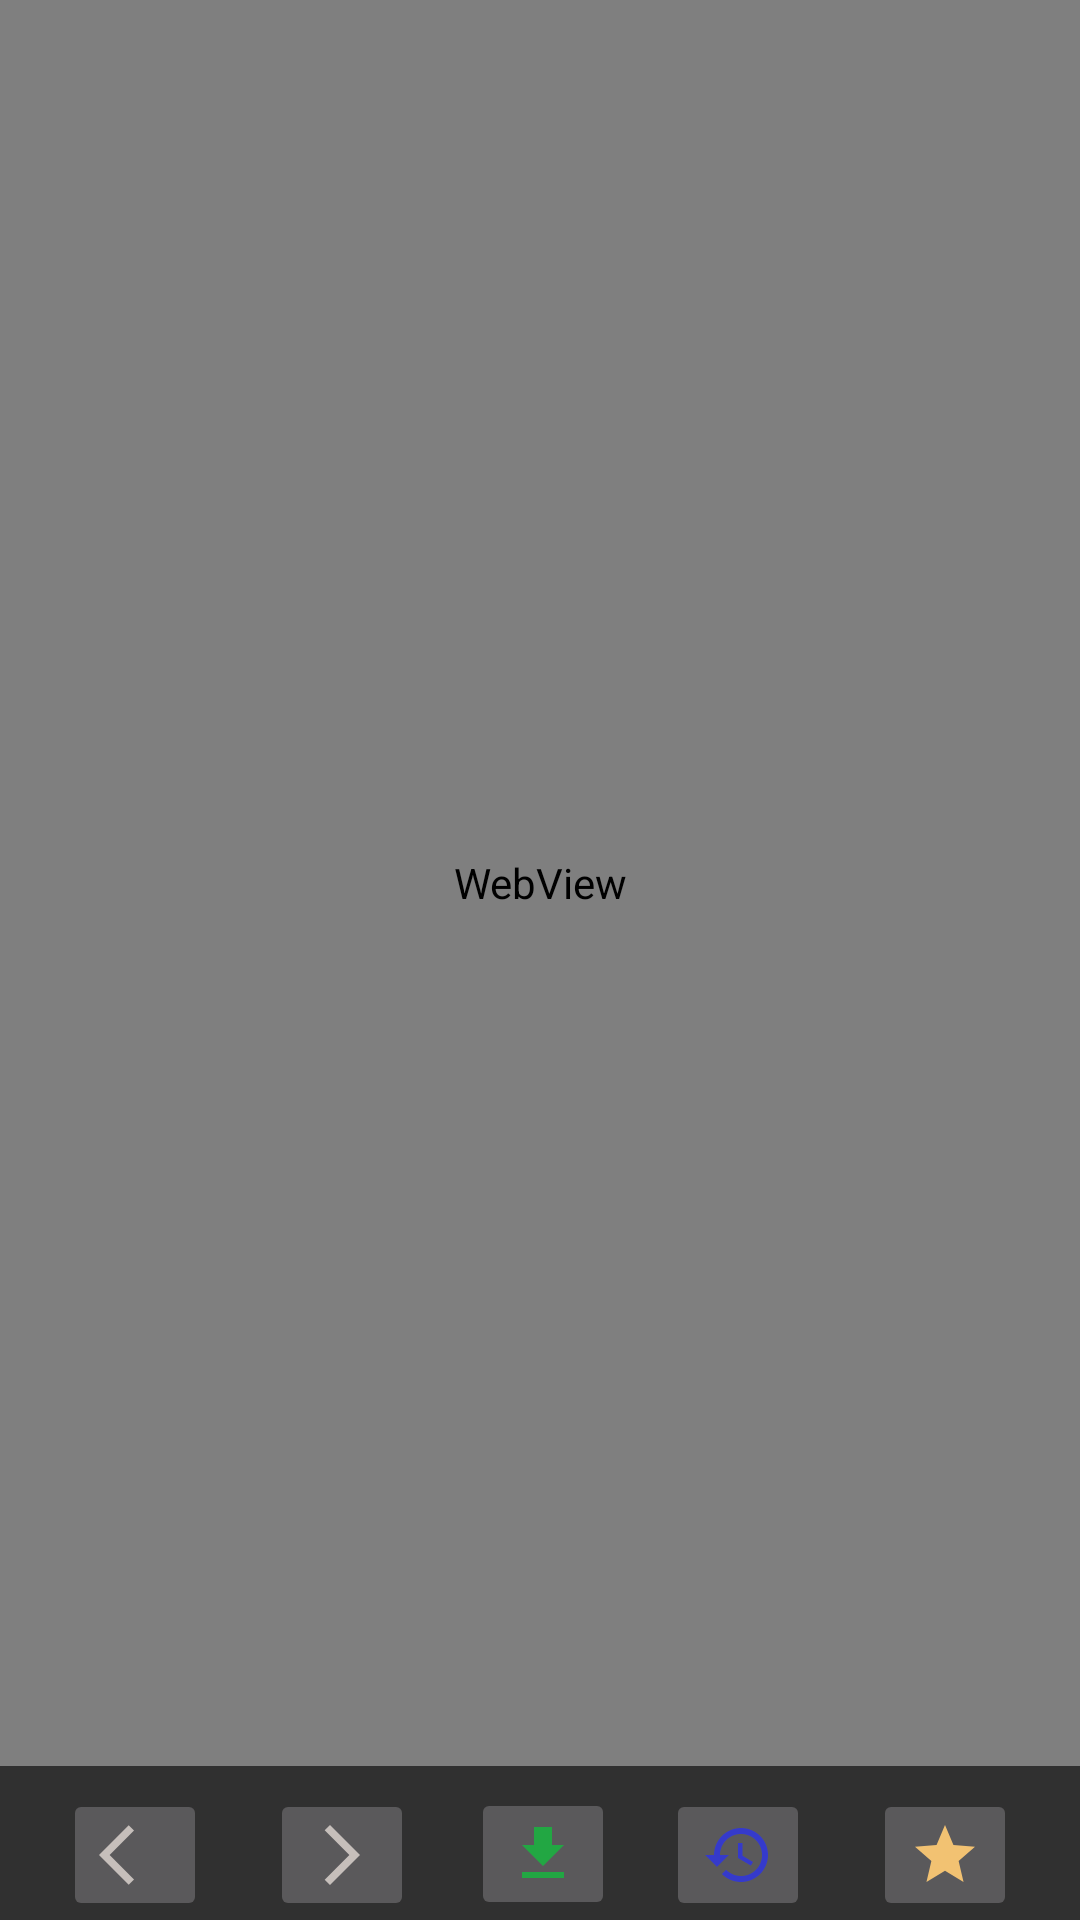

Point at icon controls on the screen. Image size 1080px×1920px, points as point (x, y).
arrow back: point (135, 1855)
arrow forward: point (342, 1855)
download: point (543, 1854)
history: point (738, 1855)
star: point (945, 1855)
